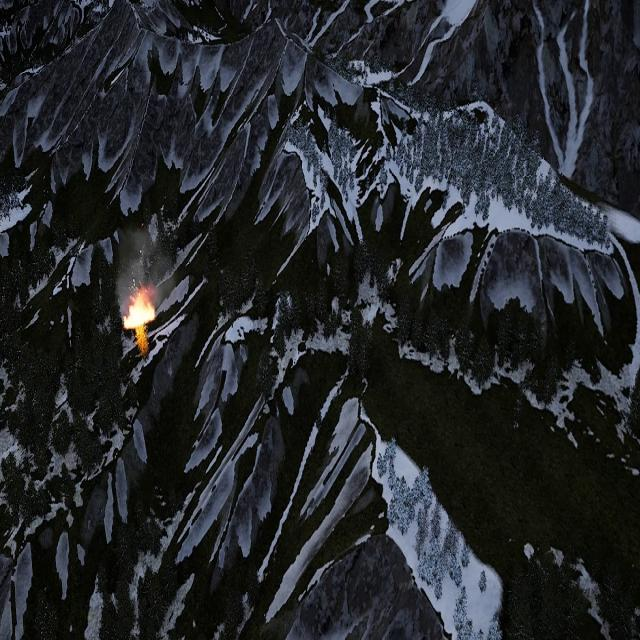fire: (125, 295, 157, 331)
smoke: (114, 214, 166, 312)
